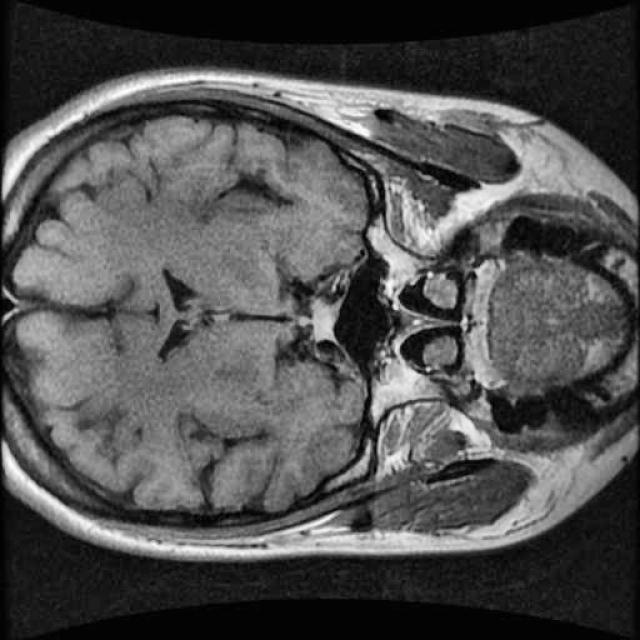Tumor: (286, 290, 350, 356)
